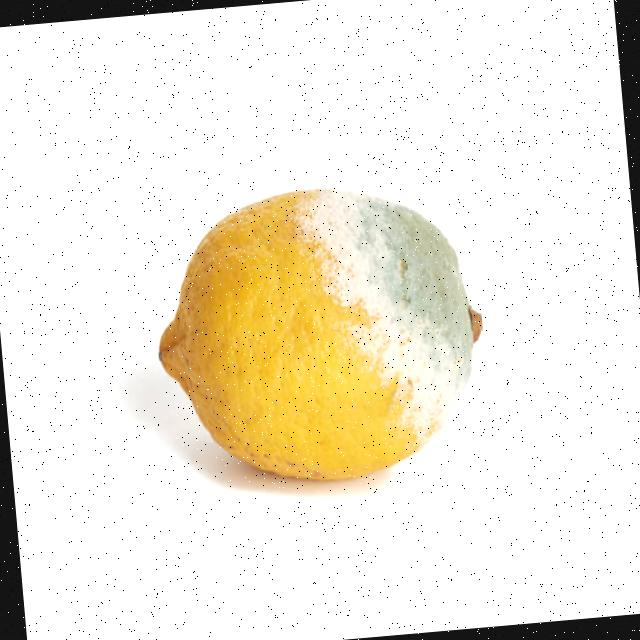Rotten: (140, 170, 494, 497)
